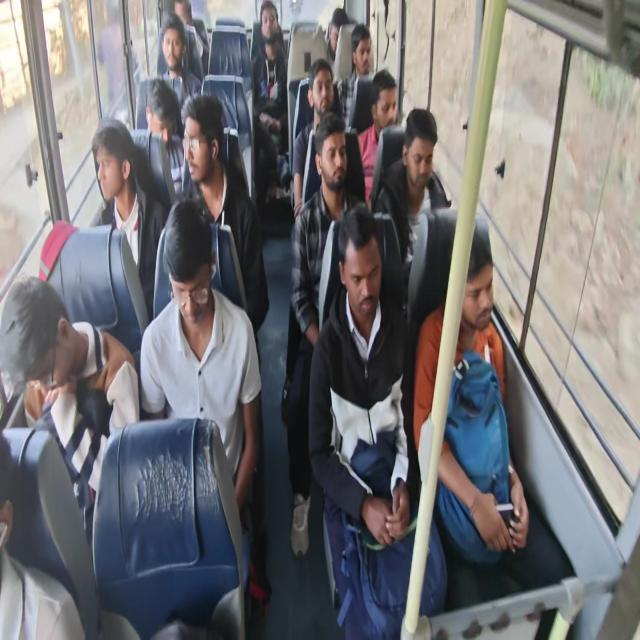person: (2, 281, 81, 404), (163, 240, 217, 328), (454, 240, 501, 335), (0, 443, 29, 571), (344, 246, 381, 317), (96, 128, 130, 205), (186, 118, 220, 184), (146, 83, 178, 145), (373, 80, 402, 138), (407, 124, 432, 186), (318, 136, 348, 186), (326, 14, 348, 66), (169, 5, 197, 39), (163, 34, 184, 79), (352, 37, 374, 79), (257, 12, 279, 50), (312, 80, 334, 114)
